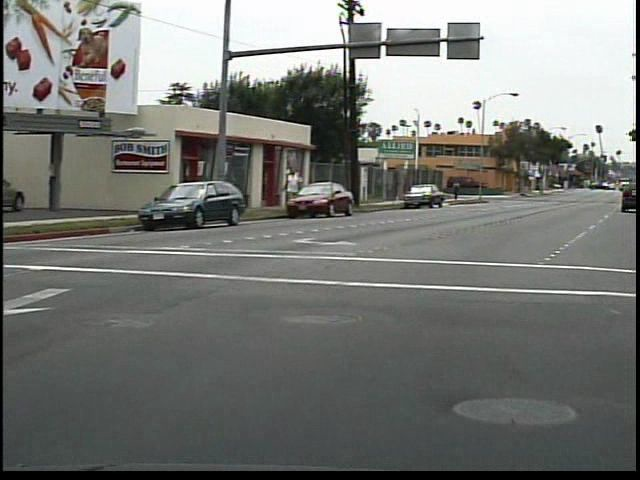person: (288, 161, 312, 214), (456, 179, 468, 204)
